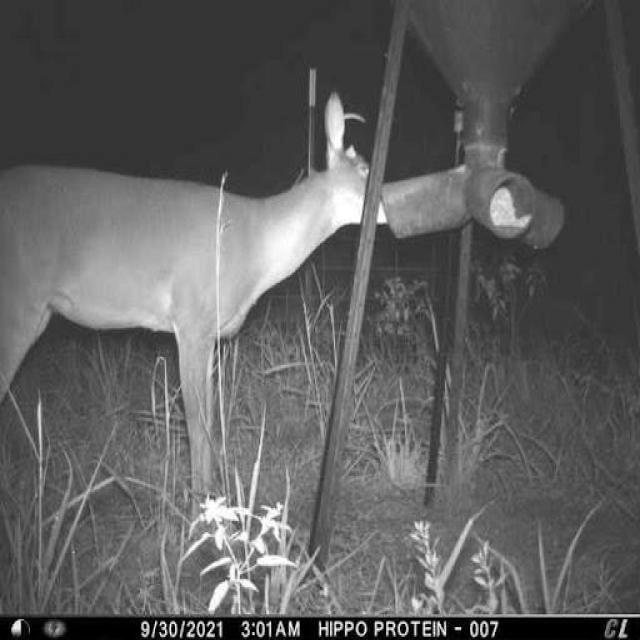Deer: (0, 82, 384, 561)
